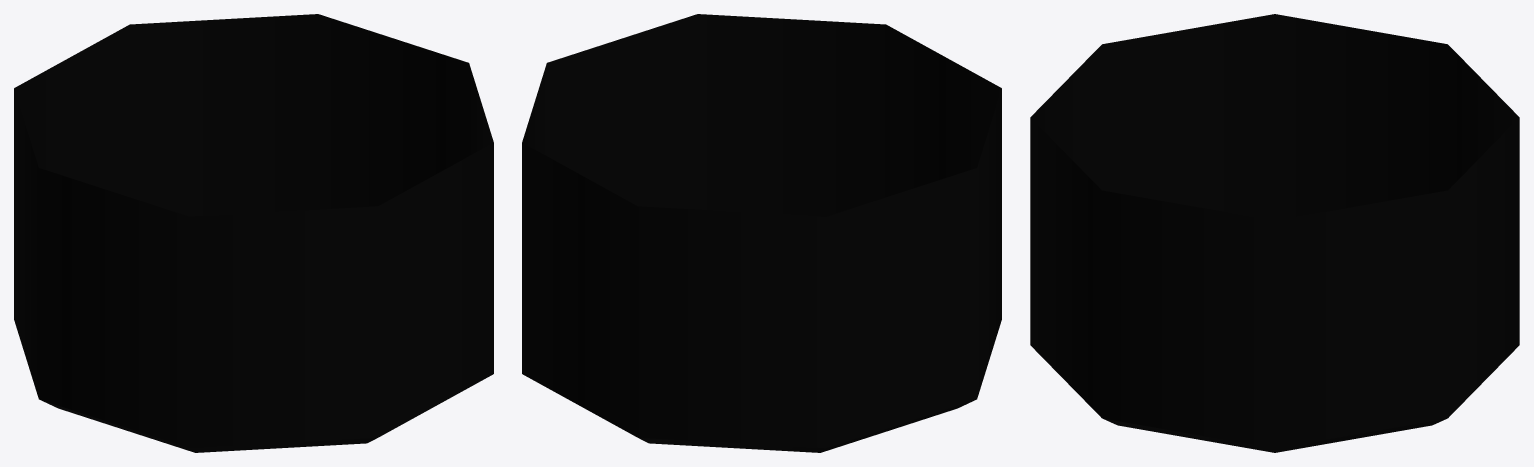
Rendered from Ceiling_Light.fbx.
3 views of the same model, side by side, from view 1: azimuth 30°, elevation 25°; view 2: azimuth 150°, elevation 25°; view 3: azimuth 270°, elevation 25° (orthographic).
Visible parts, largest first — view 1: TopLight; view 2: TopLight; view 3: TopLight.
Boxes of the visible parts, box(x1,y1,x2,y2) form: TopLight: box(14, 14, 493, 452); TopLight: box(522, 14, 1001, 452); TopLight: box(1030, 14, 1519, 452).
Size of the model in its own units: 11.85 by 6.46 by 11.85.
